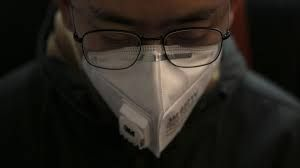with-mask: (62, 3, 241, 159)
